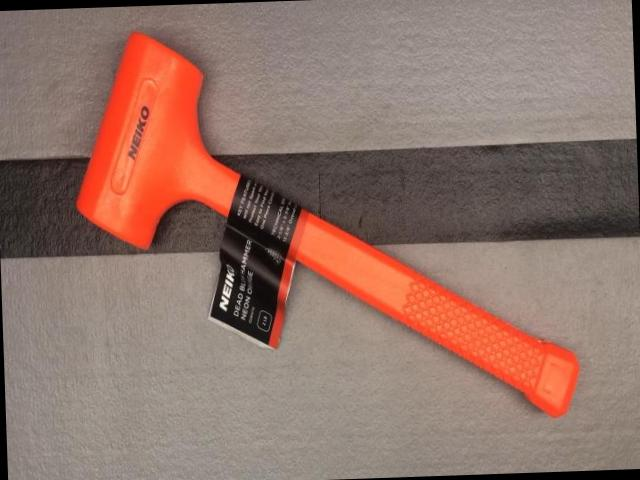hammer: (71, 19, 584, 433)
